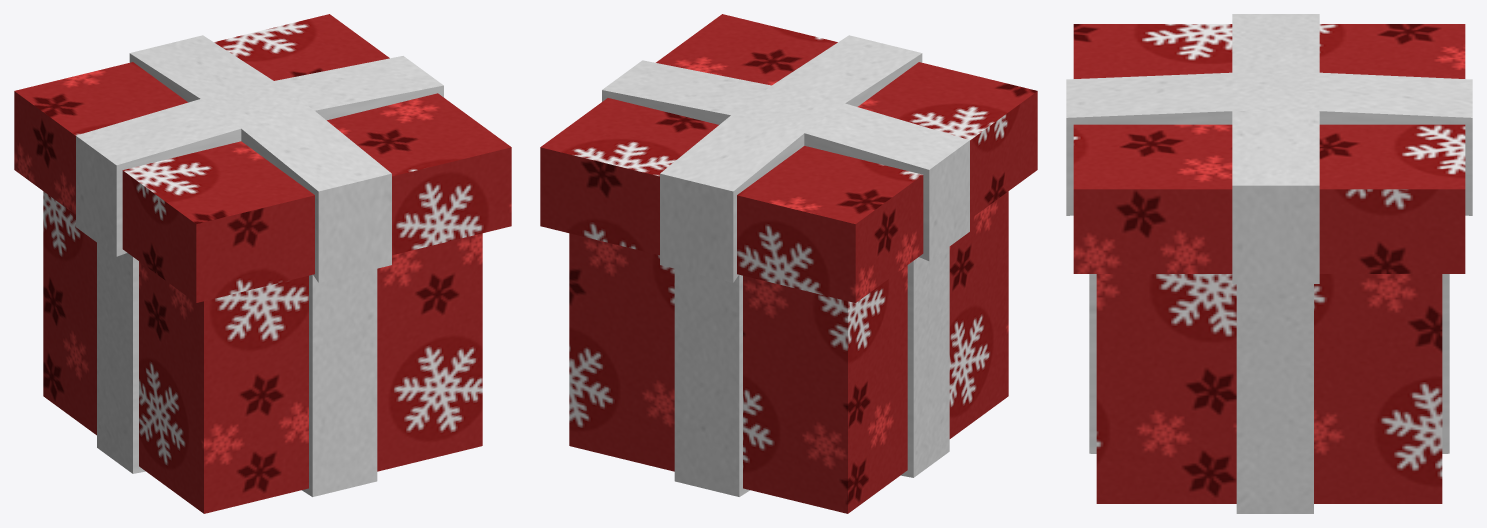
The model's file is giftbox.fbx.
3 views of the same model, side by side, from view 1: azimuth 30°, elevation 25°; view 2: azimuth 150°, elevation 25°; view 3: azimuth 270°, elevation 25° (orthographic). The views are drawn at different scales.
Visible parts, largest first — view 1: pCube1; view 2: pCube1; view 3: pCube1.
Boxes of the visible parts, box(x1,y1,x2,y2) form: pCube1: box(14, 14, 511, 513); pCube1: box(540, 14, 1037, 513); pCube1: box(1066, 14, 1472, 513).
Size of the model in its own units: 40.96 by 40.96 by 39.1.
